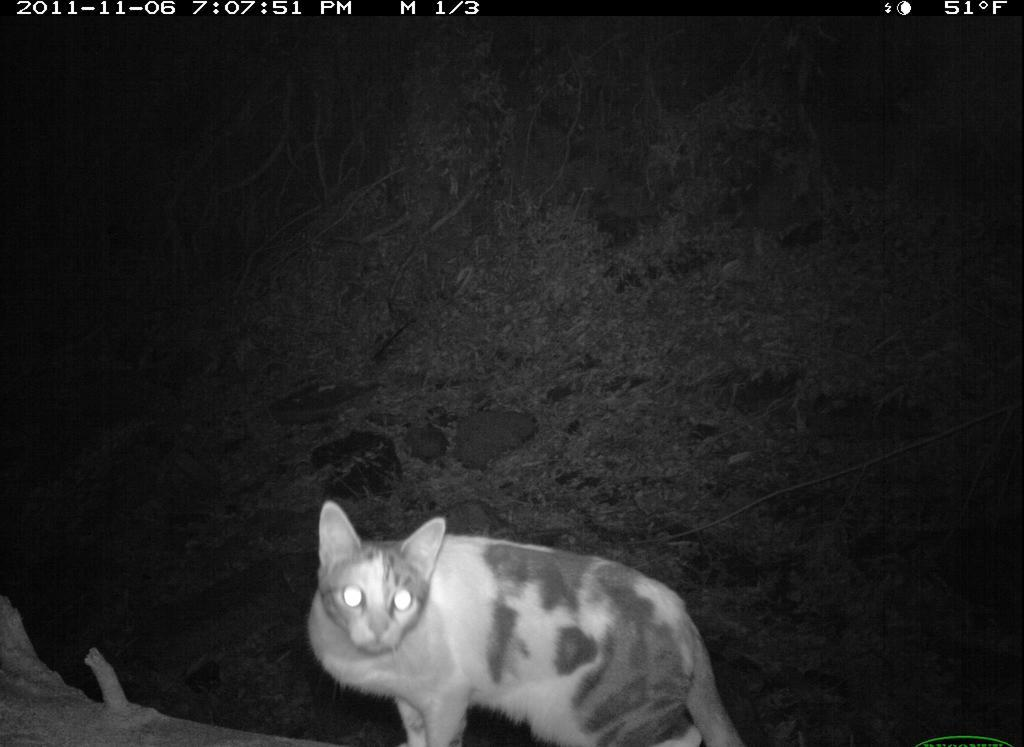cat: (301, 493, 772, 747)
